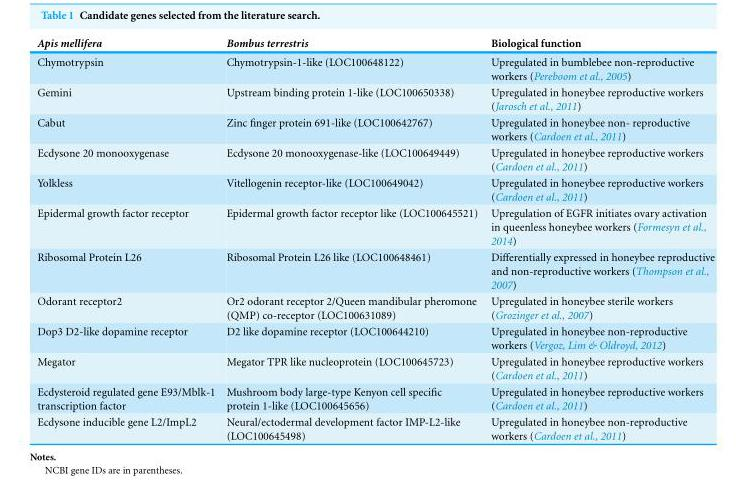table: (36, 36, 714, 441)
table column: (220, 36, 483, 441), (483, 36, 714, 441), (36, 36, 220, 441)
table column header: (36, 36, 714, 52)
table row: (36, 204, 714, 248), (36, 248, 714, 292), (36, 52, 714, 83), (36, 83, 714, 114), (36, 322, 714, 353), (36, 114, 714, 144), (36, 144, 714, 174), (36, 174, 714, 204), (36, 292, 714, 322), (36, 353, 714, 383), (36, 383, 714, 413), (36, 413, 714, 441), (36, 36, 714, 52)
